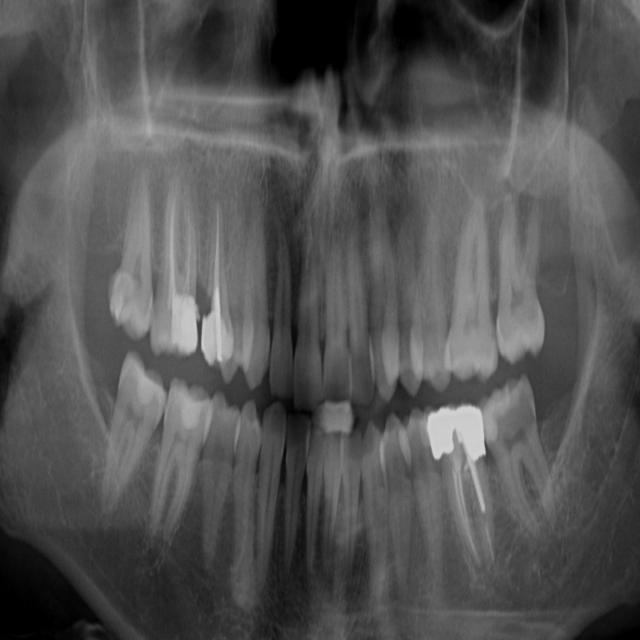dentin-curugu: (502, 393, 538, 435), (346, 347, 377, 394), (287, 414, 307, 454), (262, 406, 288, 433)
dolgu: (198, 312, 236, 362), (163, 297, 197, 352)
kanal-tedavisi: (439, 455, 507, 572), (150, 188, 203, 310), (198, 199, 240, 315)
kaplama: (424, 406, 488, 460)
